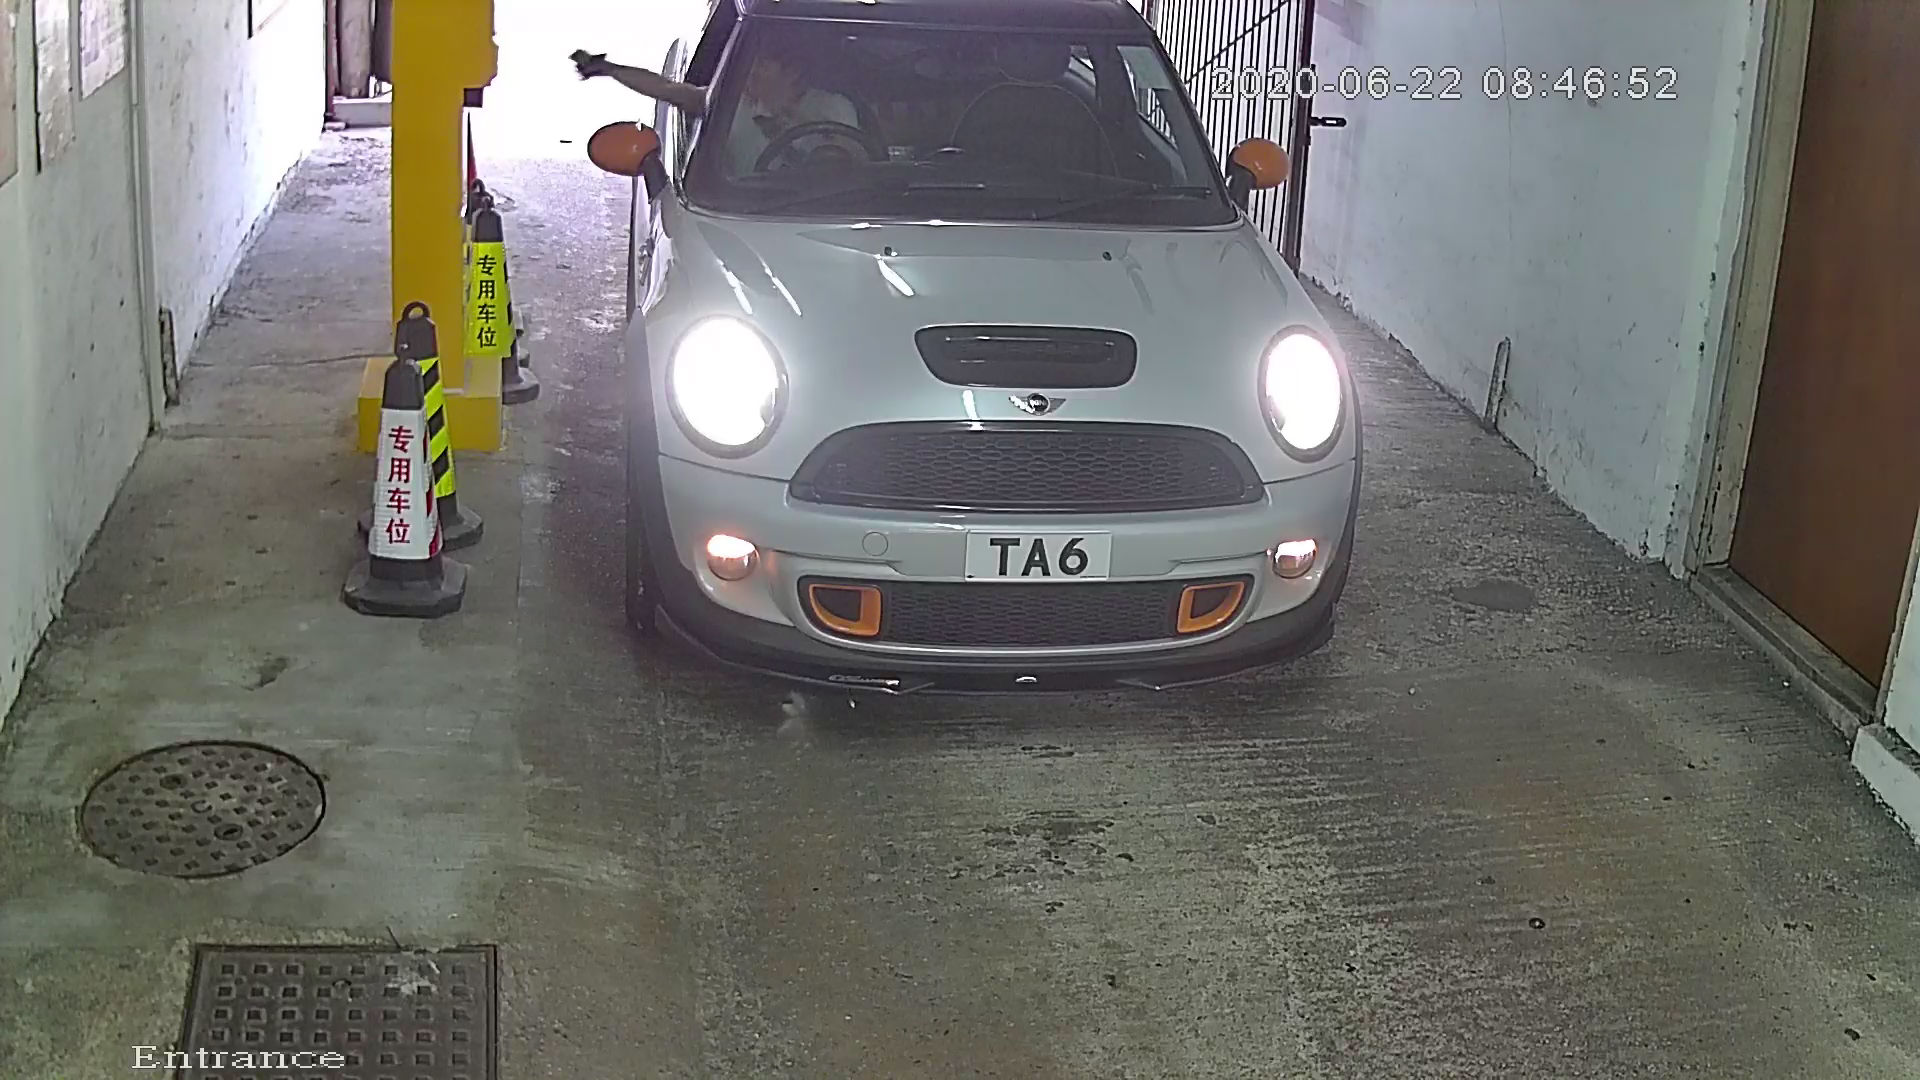privatecar: (587, 1, 1443, 742)
